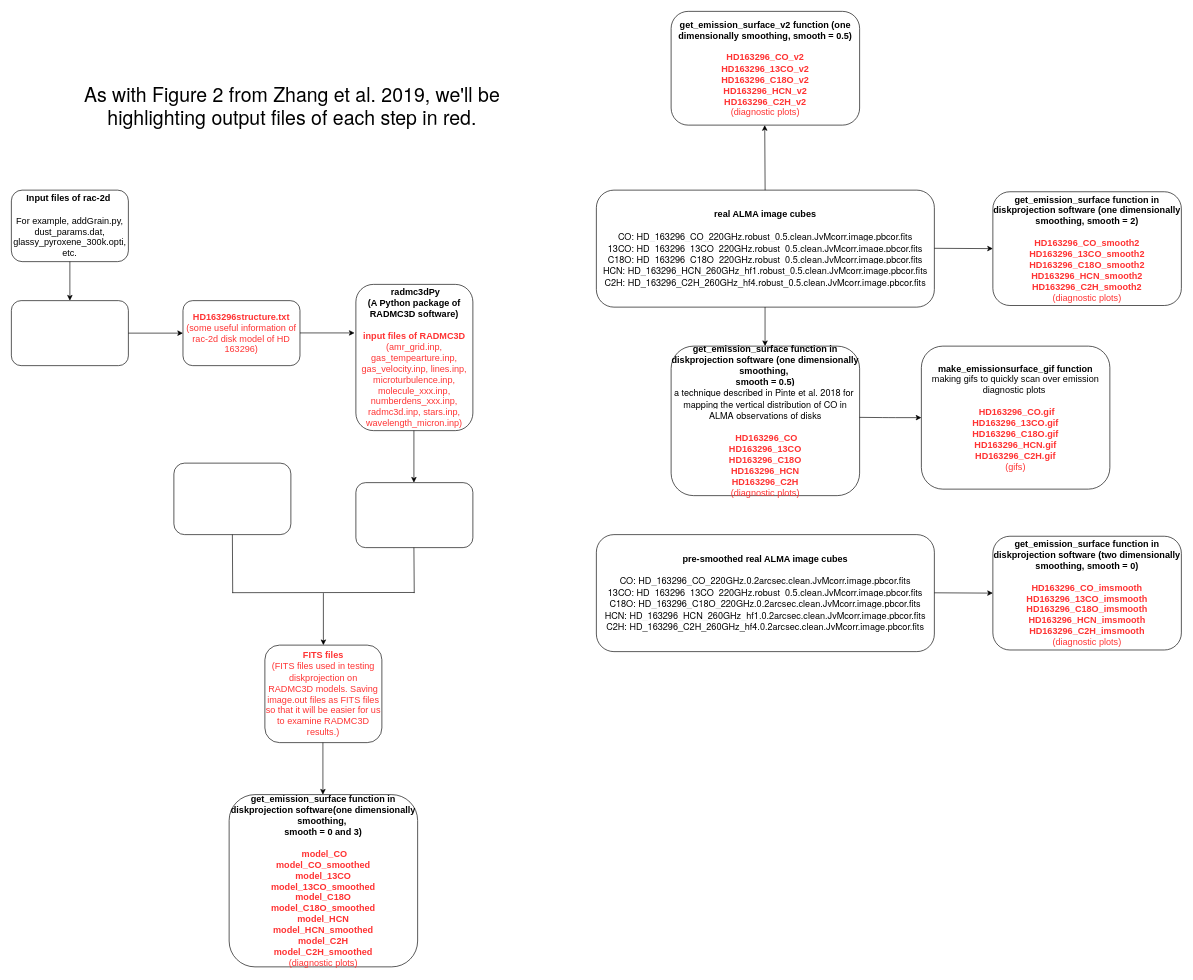
The diagram is 1193 pixels wide and 980 high, and some of its shapes have lost their labels. Each missing label, with the centre of its shape:
"image.out (output images of RADMC3D simulation) radmc3d.out" goes at (x=414, y=515).
"rac-2d software iter_0001.dat (results of rac-2d chemical model)" goes at (x=69, y=333).
"rest frequencies of molecules" goes at (x=232, y=498).
